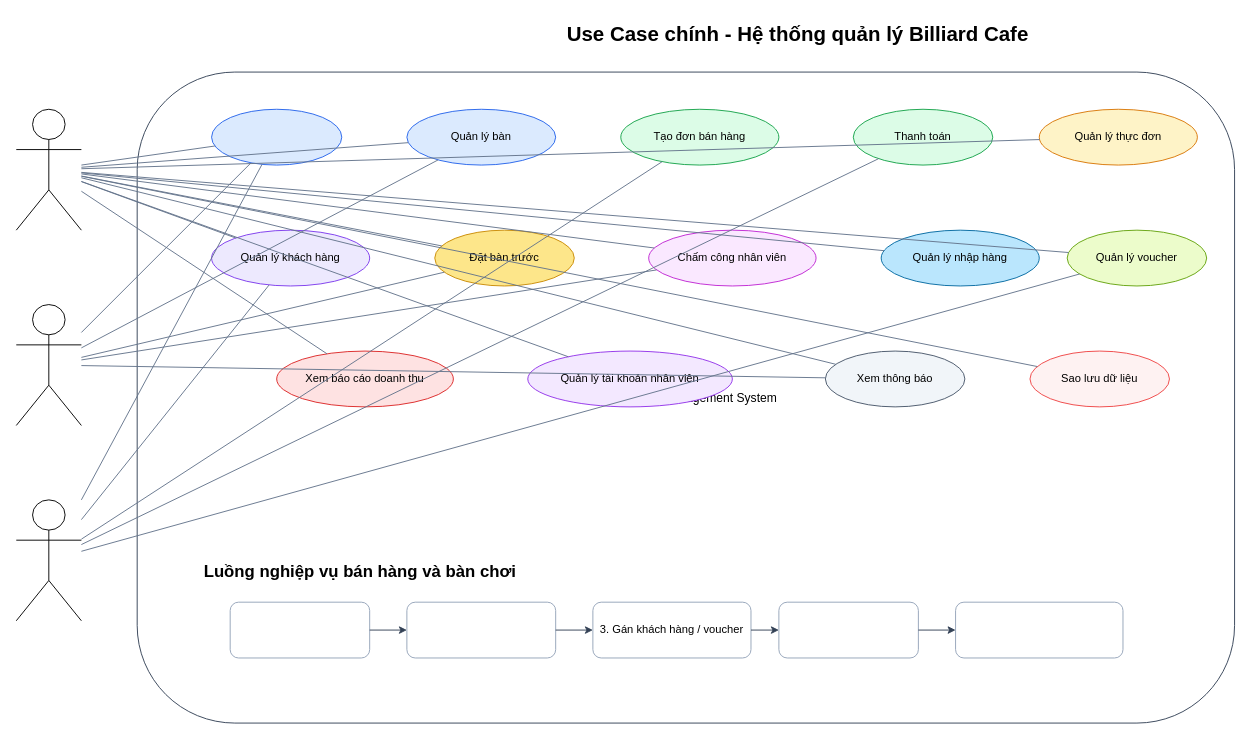
The diagram is 1251 pixels wide and 739 high, and some of its shapes have lost their labels. Each missing label, with the centre of its shape:
"1. Chọn bàn / khu vực" belongs at point 299,629.
"2. Chọn món từ thực đơn" belongs at point 481,629.
"4. Tạo đơn hàng" belongs at point 848,629.
"5. Thanh toán + cập nhật điểm" belongs at point 1039,629.
"Admin" belongs at point 48,169.
"Nhân viên" belongs at point 48,364.
"Thu ngân" belongs at point 48,560.
"Đăng nhập" belongs at point 276,136.
